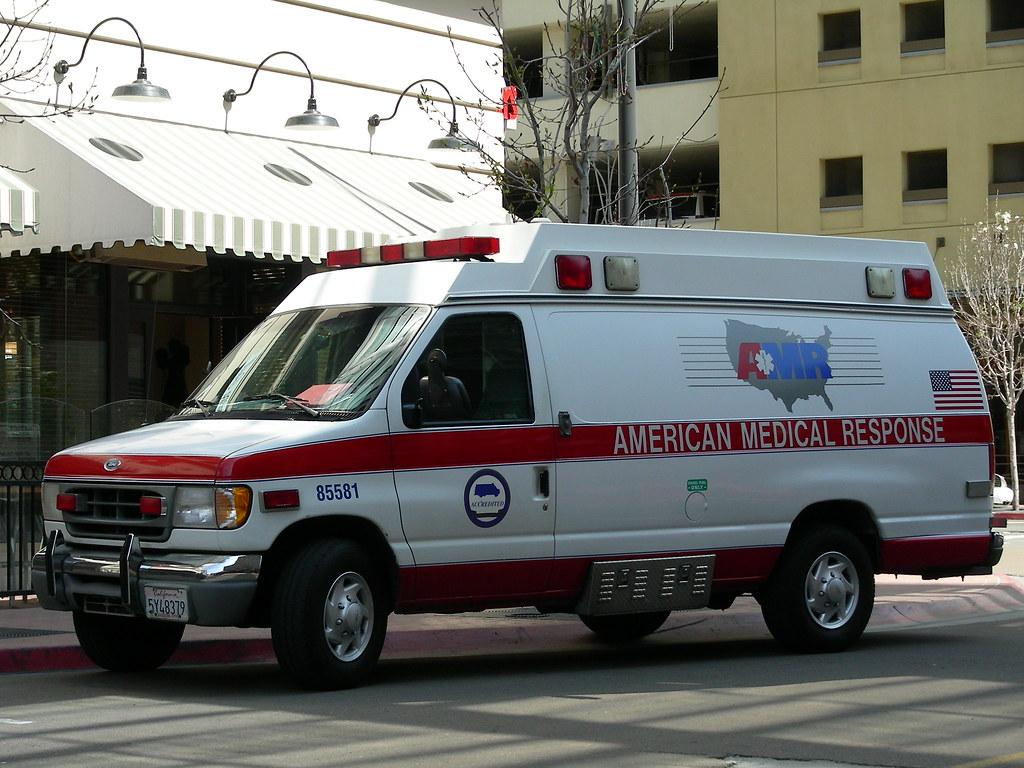ambulance_off: (27, 221, 1008, 683)
